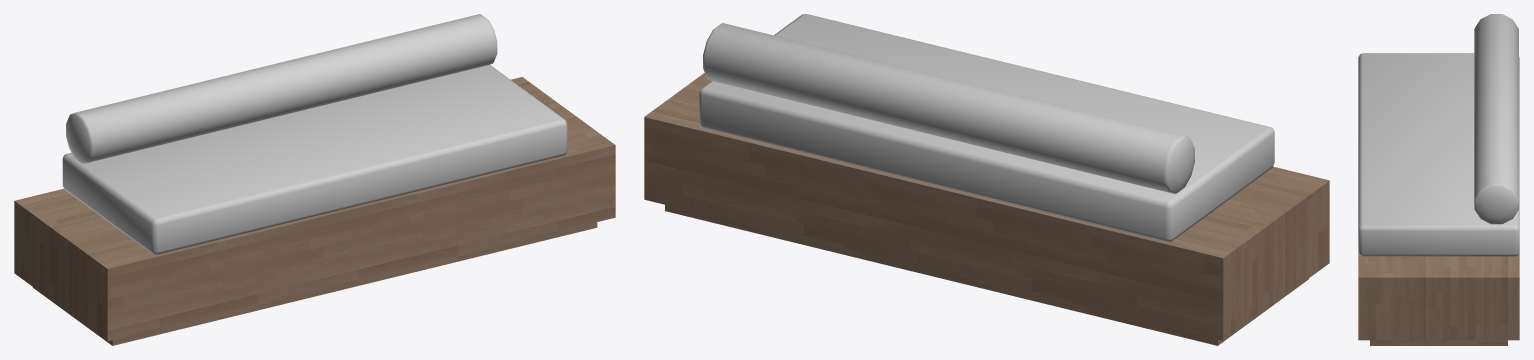
Rendered from D_Bench_003.fbx.
3 views of the same model, side by side, from view 1: azimuth 30°, elevation 25°; view 2: azimuth 150°, elevation 25°; view 3: azimuth 270°, elevation 25° (orthographic). The views are drawn at different scales.
Visible parts, largest first — view 1: D_Bench_003; view 2: D_Bench_003; view 3: D_Bench_003.
Boxes of the visible parts, left/top/right/bottom form: D_Bench_003: left=14, top=14, right=615, bottom=345; D_Bench_003: left=644, top=14, right=1329, bottom=345; D_Bench_003: left=1358, top=14, right=1519, bottom=345.
Size of the model in its own units: 2.2 by 0.6932 by 0.7.
